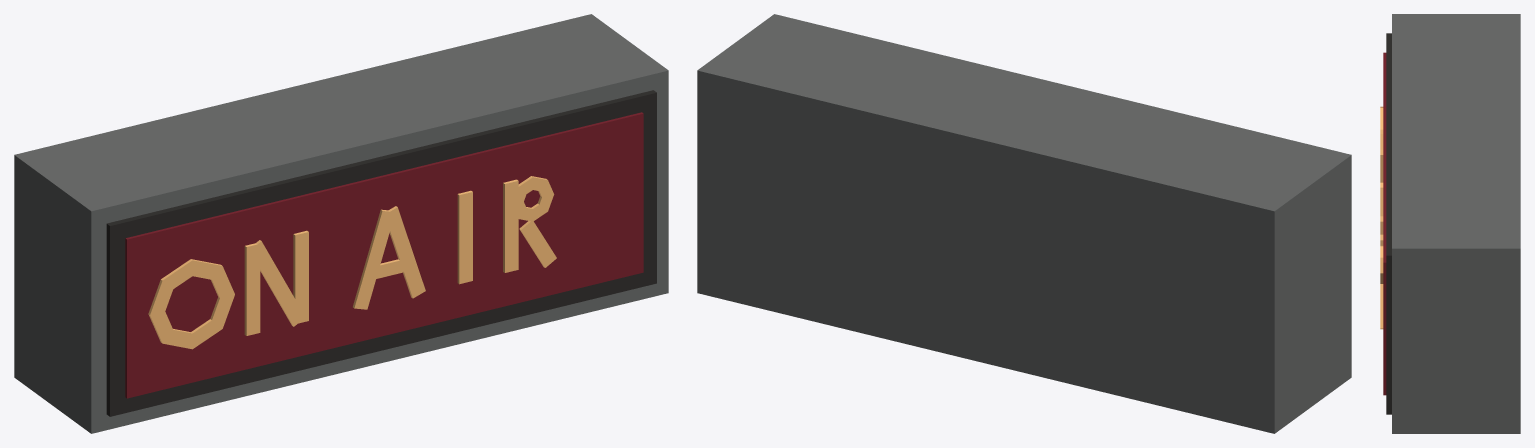
File: on-air-lamp.glb
The picture shows the model from 3 angles, left to right: view 1: azimuth 30°, elevation 25°; view 2: azimuth 150°, elevation 25°; view 3: azimuth 270°, elevation 25°; orthographic projection. The views are drawn at different scales.
Parts seen in each view (by area): view 1: metal, accent-crimson, plastic-dark, emissive-warm; view 2: metal; view 3: metal, plastic-dark, accent-crimson, emissive-warm.
Part boxes in pixels (x1,y1,x2,y2): metal: (14, 14, 668, 433); accent-crimson: (125, 112, 643, 398); plastic-dark: (106, 90, 656, 416); emissive-warm: (148, 176, 556, 349); metal: (697, 14, 1351, 433); metal: (1392, 14, 1520, 433); plastic-dark: (1386, 33, 1391, 414); accent-crimson: (1383, 52, 1386, 395); emissive-warm: (1380, 106, 1383, 329).
Bounding box in the file's own units: 0.38 × 0.14 × 0.096.
